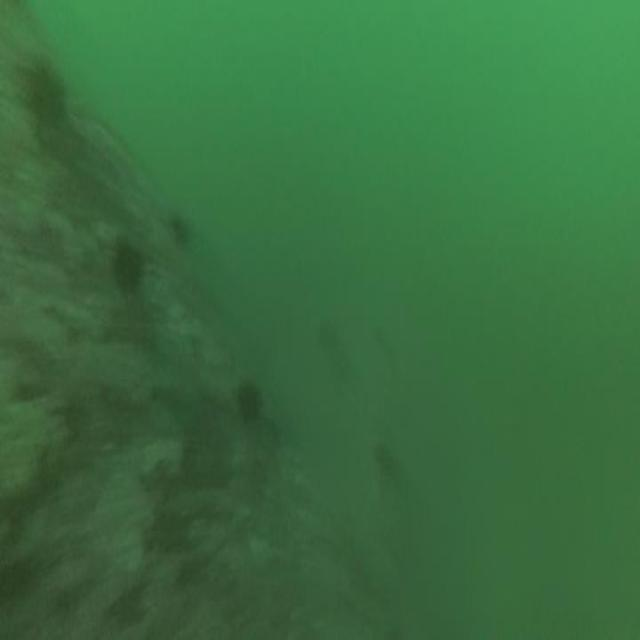echinus: (28, 58, 66, 128), (113, 242, 142, 288), (234, 376, 258, 417)
